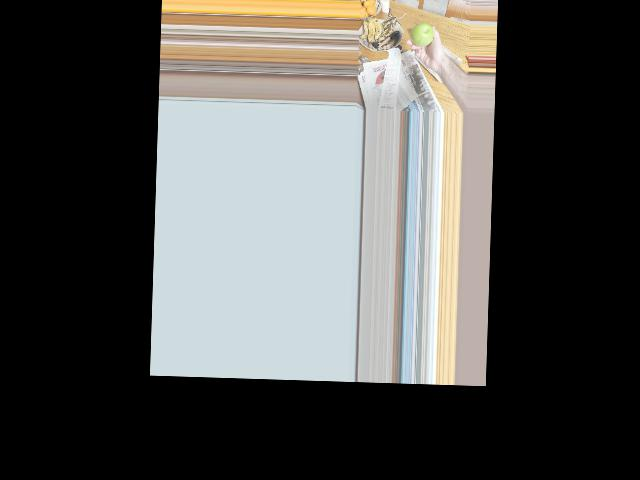apple: (410, 23, 434, 47)
